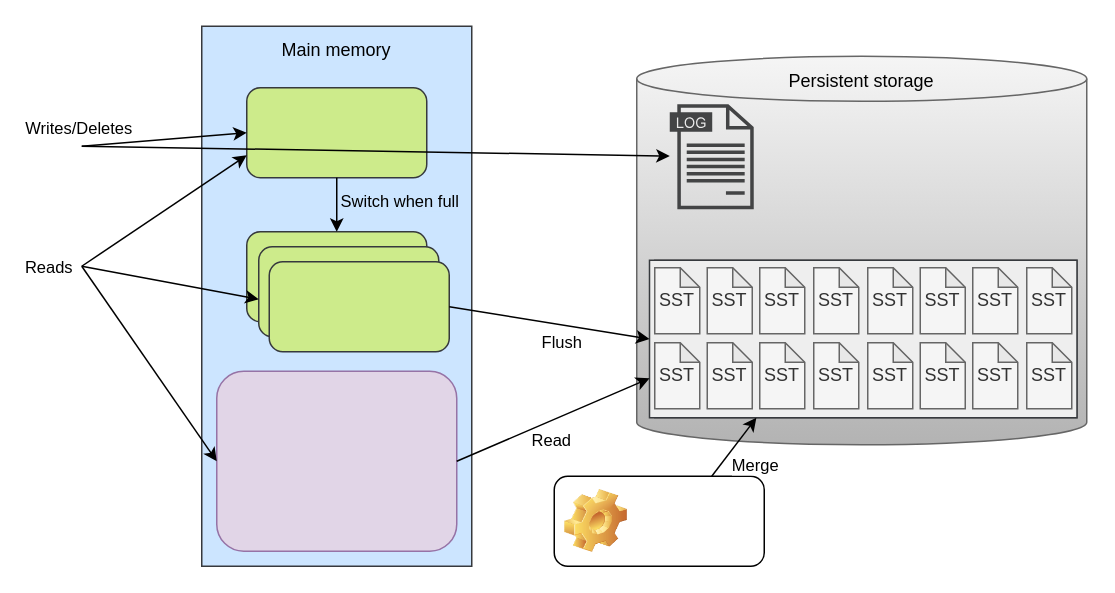
This 1115x593 diagram has some shape labels left out. Each missing label, with the centre of its shape:
Active Memtable: the point at 336,132
Block Cache (Read-Only): the point at 336,460
Compaction Process: the point at 658,520
Read-only Memtable: the point at 358,306
Write Ahead Log: the point at 711,156
